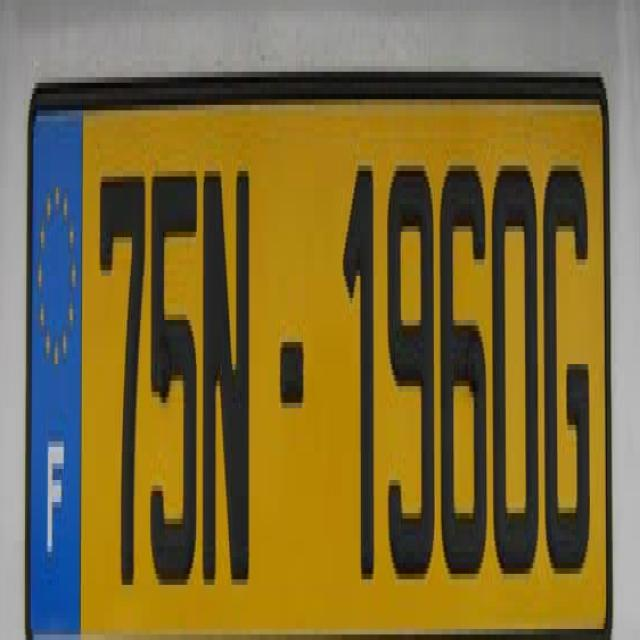EU: (27, 81, 611, 634)
France: (27, 84, 84, 634)
